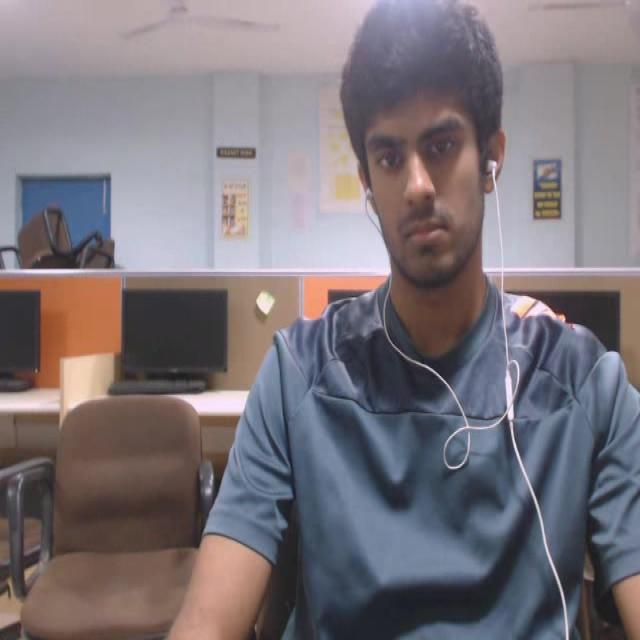Engaged: (304, 0, 543, 305)
